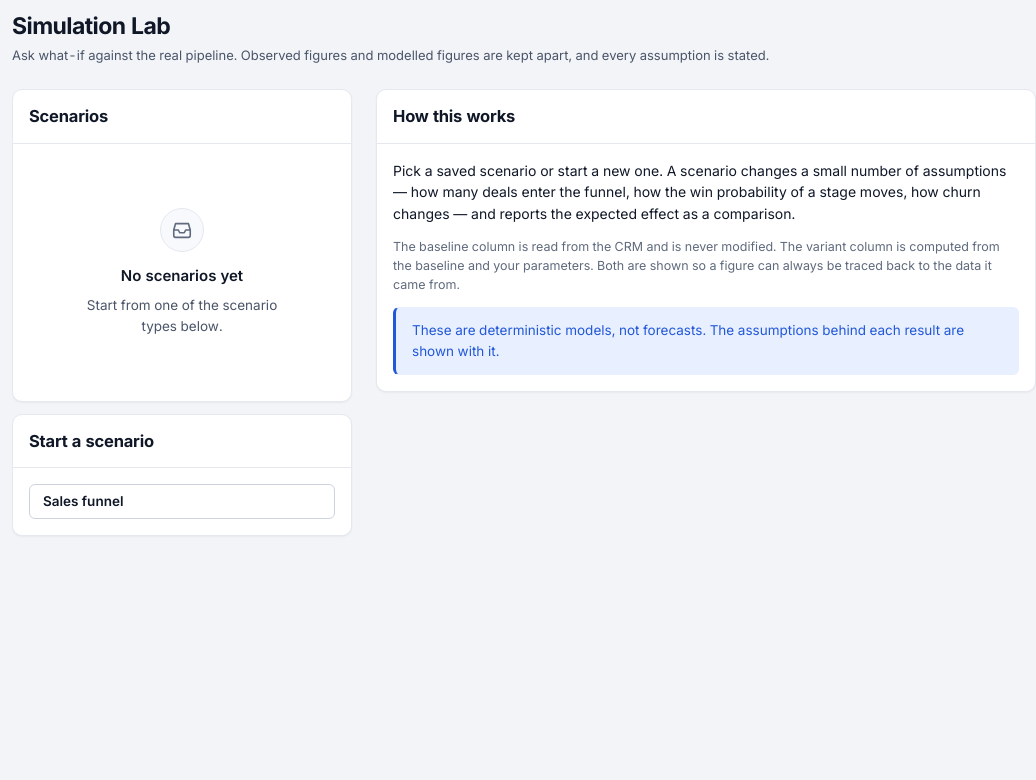
Test case: SimulationPage › previews a scenario and separates the CRM baseline from the model output
Click the button "Sales funnel" at point(83, 501), box [29,484,335,519]
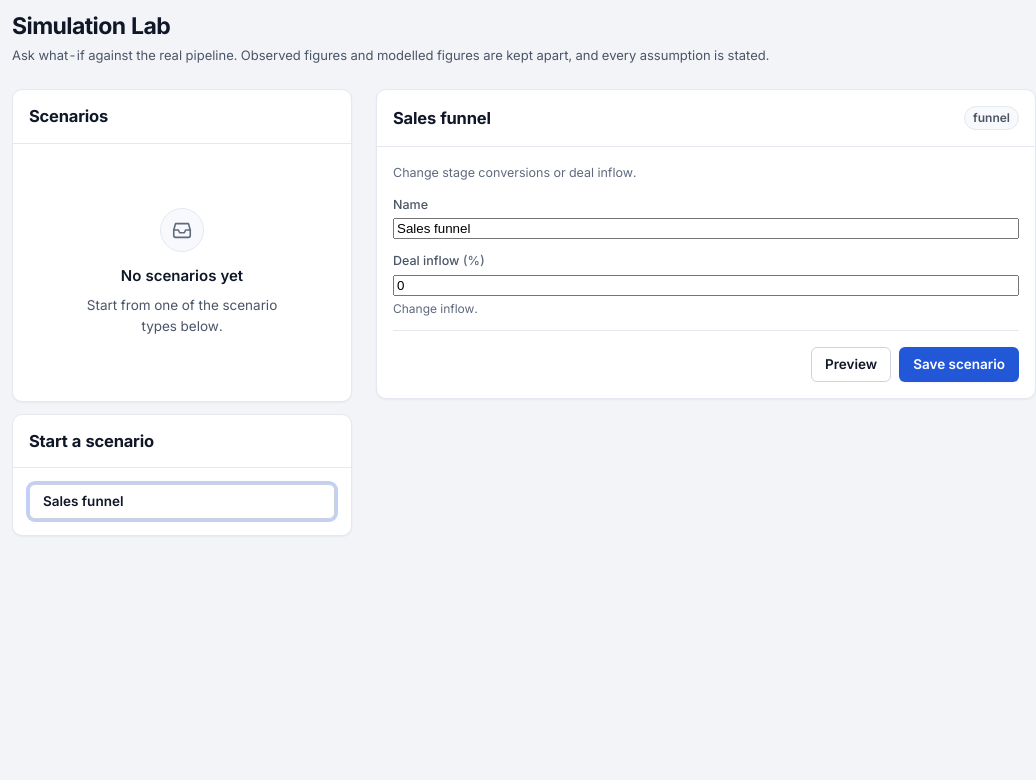
Click the button "Preview" at point(851, 365), box [811,347,891,382]
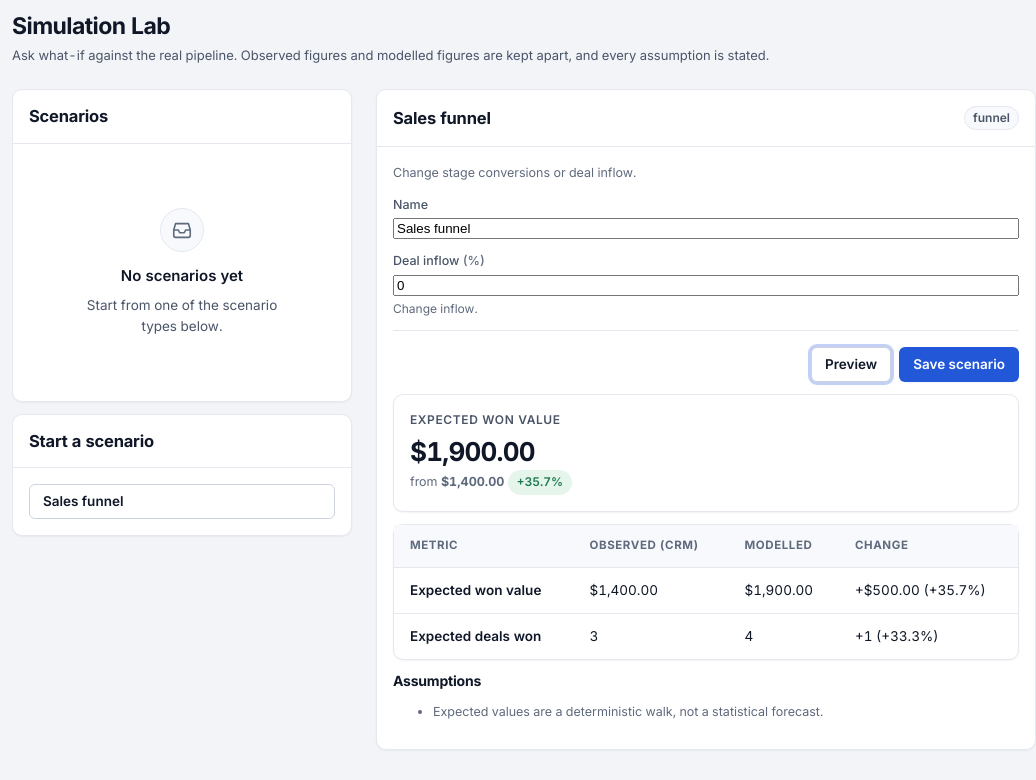
Expected: the column heading "Observed (CRM)" is shown, [574,525,728,567]
Expected: the column heading "Modelled" is shown, [729,525,839,567]
Expected: the text "$1,400.00" is shown, [441,474,504,489]
